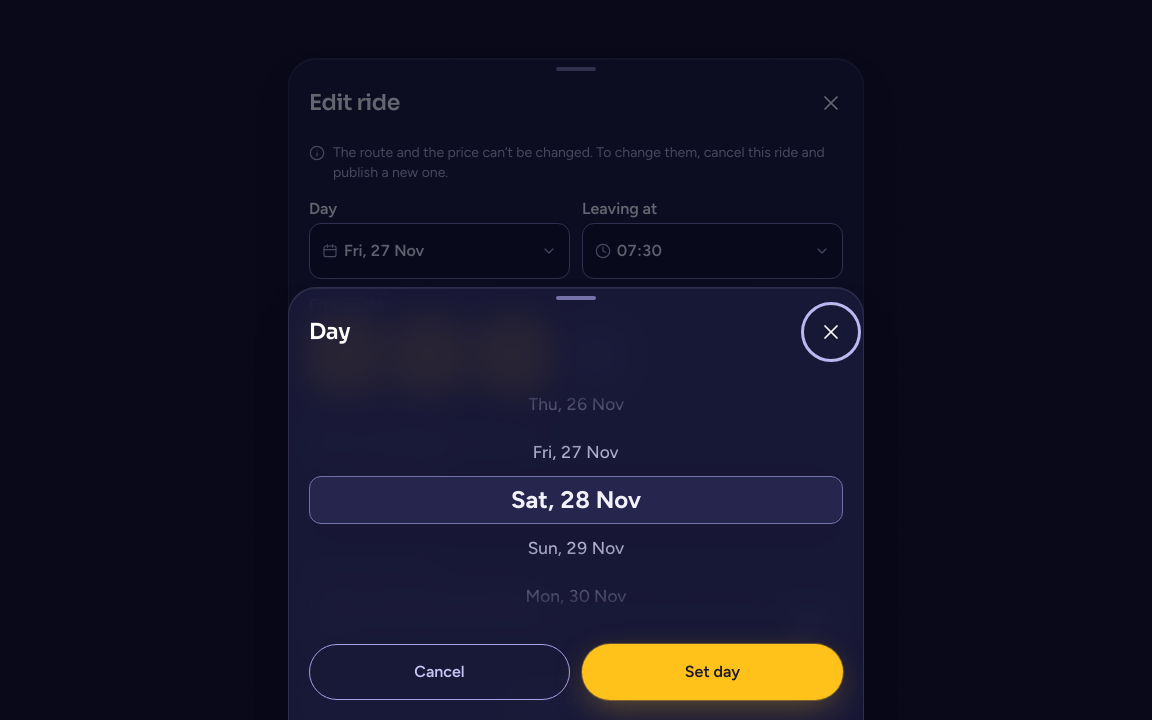
Test: EditRideSheet › VALIDATION_FAILED note -> note: shows the message inline and focuses the field
Earlier steps of the test are not shown.
(page scrolled)
What coordinates should you click on to do the following:
click the button "Set day"
I would click on:
 (712, 672)
Its box is [582,644,843,700].
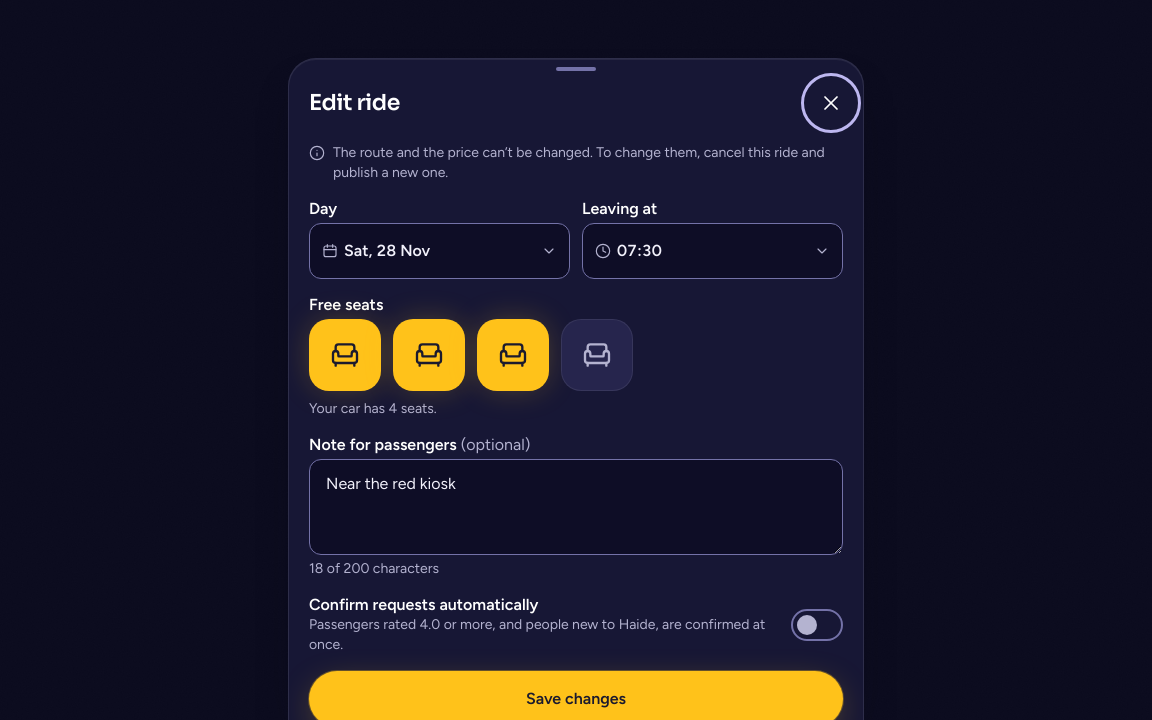
What coordinates should you click on to do the following:
click the radio button named "2 seats"
I would click on:
 (429, 355)
Its box is [393,319,465,391].
(page scrolled)
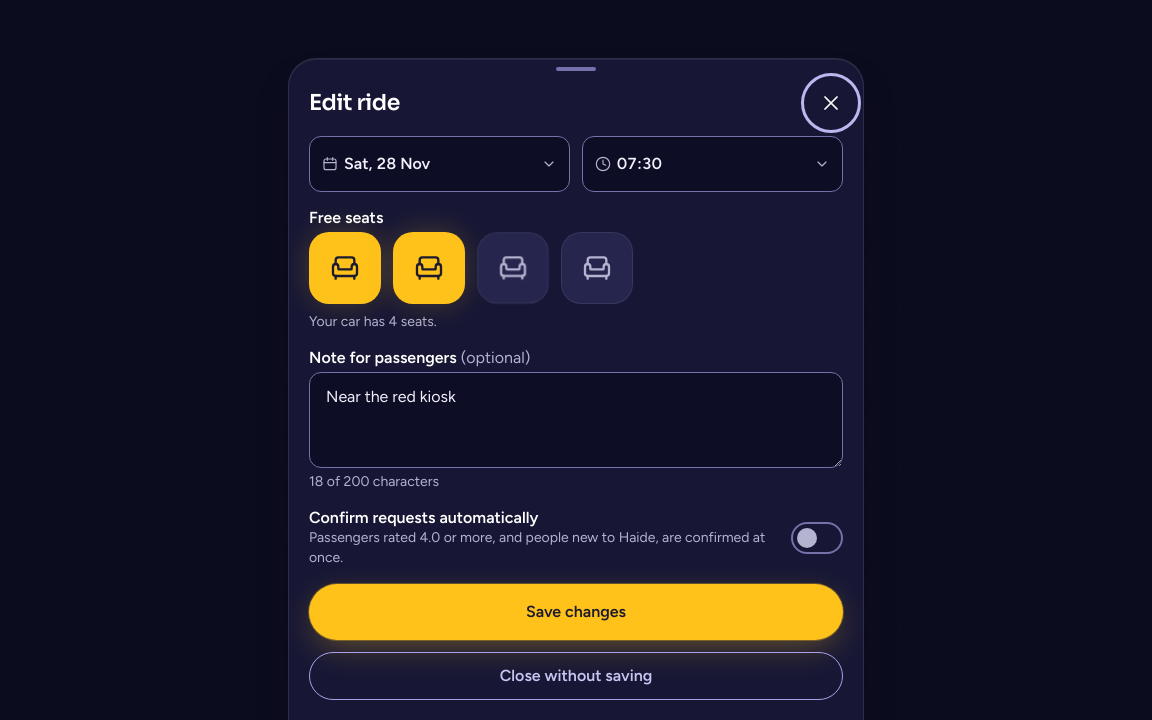
What coordinates should you click on to do the following:
click the button "Save changes"
I would click on:
 (576, 612)
Its box is [309,584,843,640].
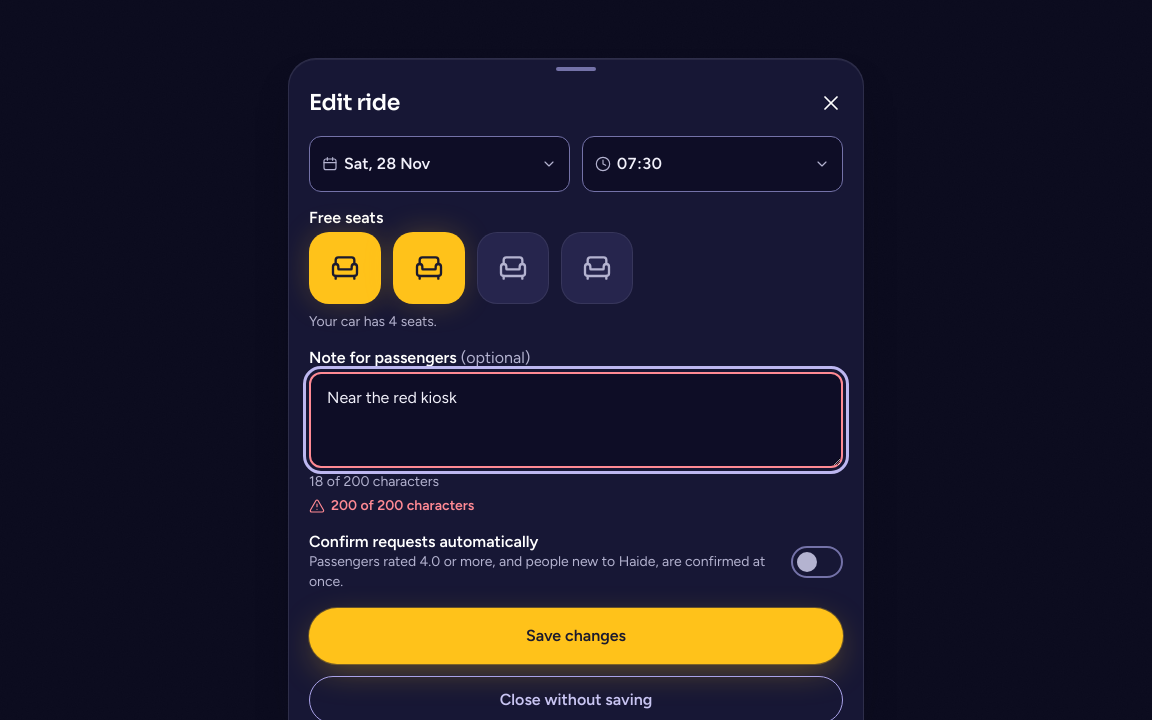
expect the message "200 of 200 characters" is shown: met, box [309,497,474,514]
